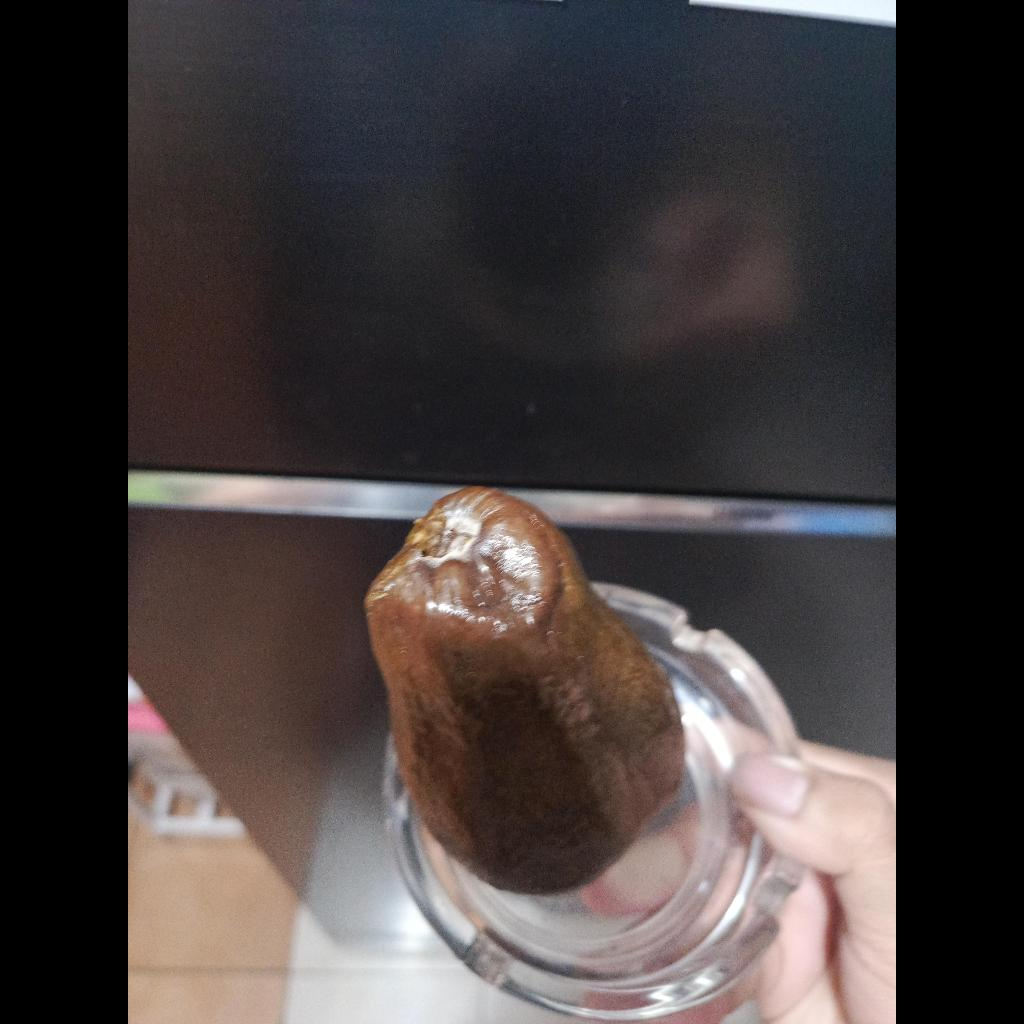pudricion_peduncular: (366, 487, 684, 894)
